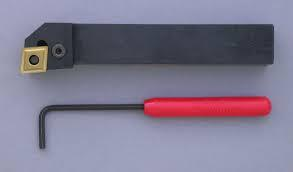wrench: (35, 93, 272, 151)
